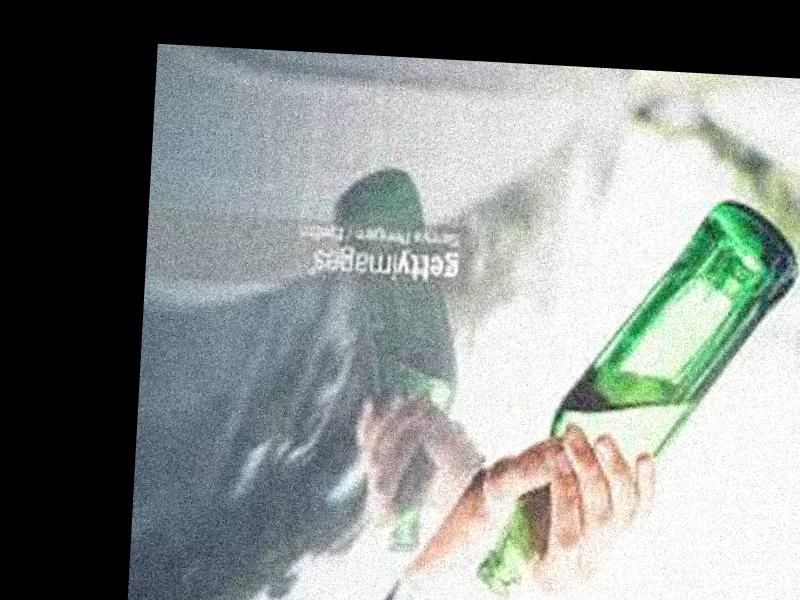Beer: (471, 186, 798, 600)
